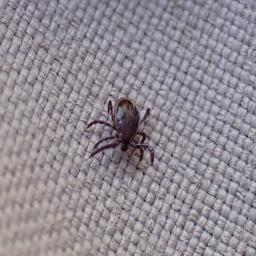Ixodes scapularis: (88, 99, 155, 163)
